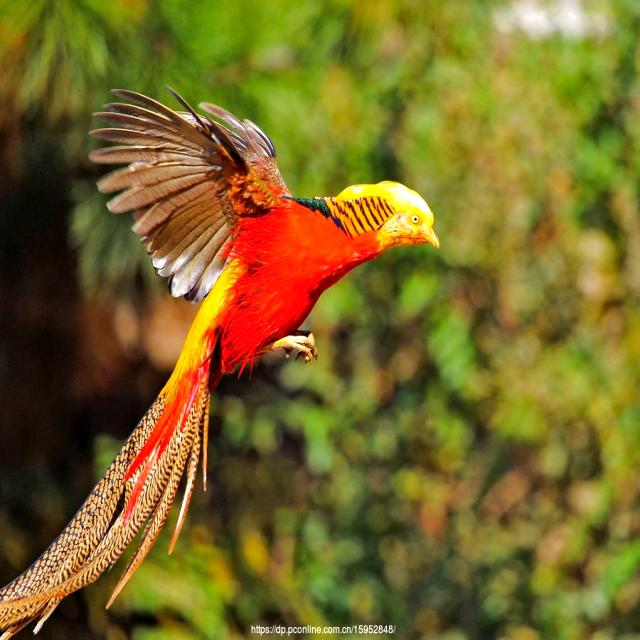Chrysolophus pictus feather: (0, 380, 209, 639)
